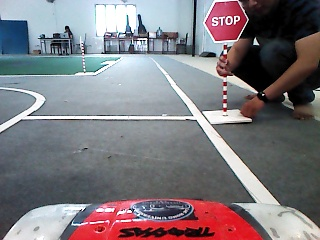stop: (200, 1, 250, 44)
